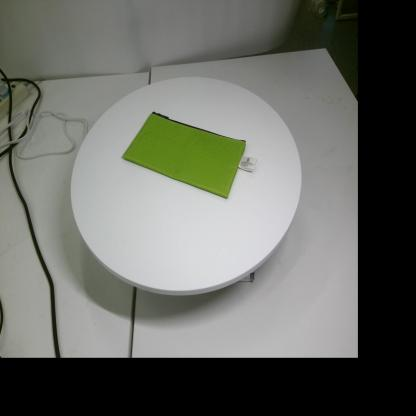Stationery: (122, 112, 257, 198)
